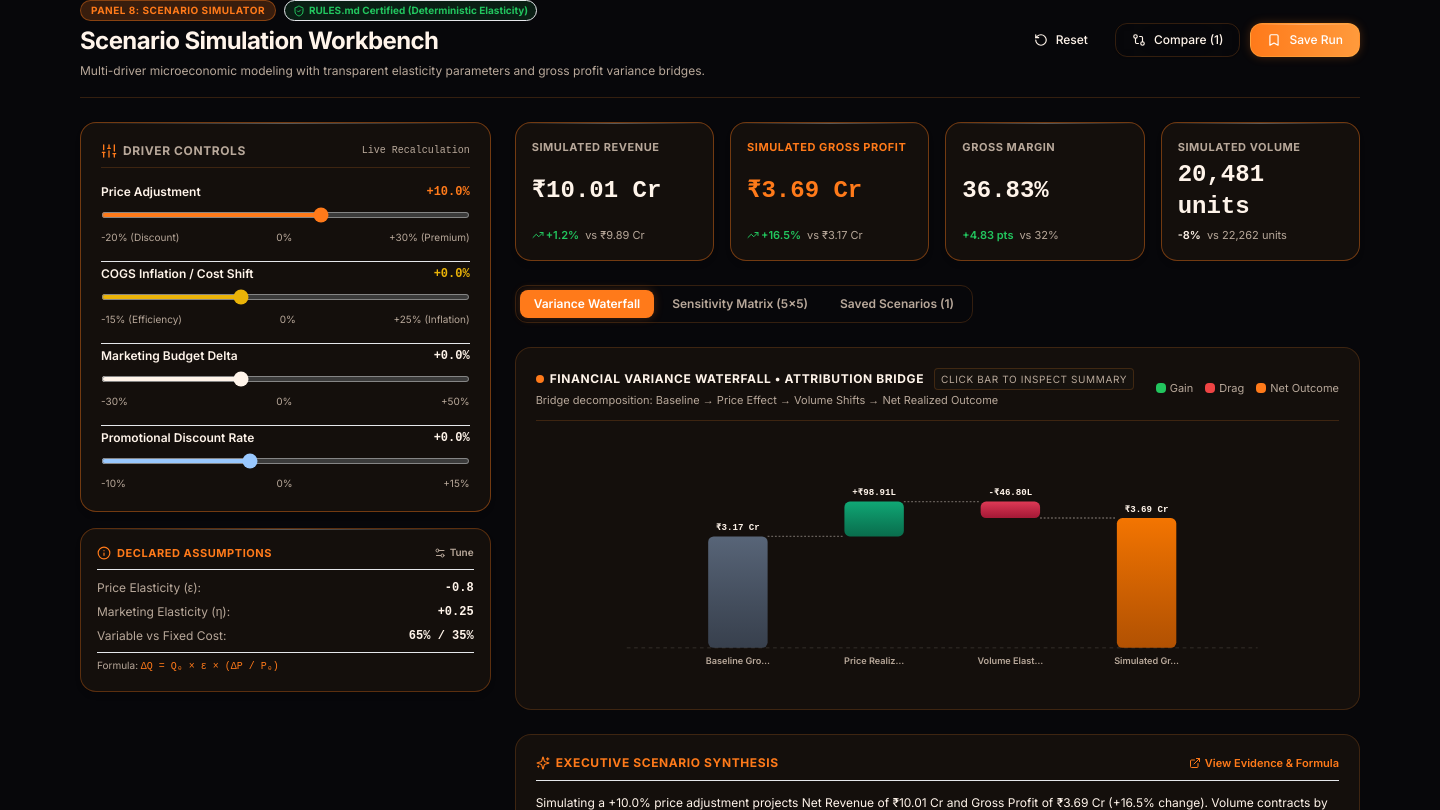
What-If Scenario Simulation Workspace (Phase 11) › renders Variance Waterfall chart and Sensitivity Matrix tabs
Expected: the button "Variance Waterfall" is shown, [520, 290, 654, 318]
// Switch to Sensitivity tab
Click the button "Sensitivity Matrix (5×5)" at x=740, y=304, box [658, 290, 822, 318]
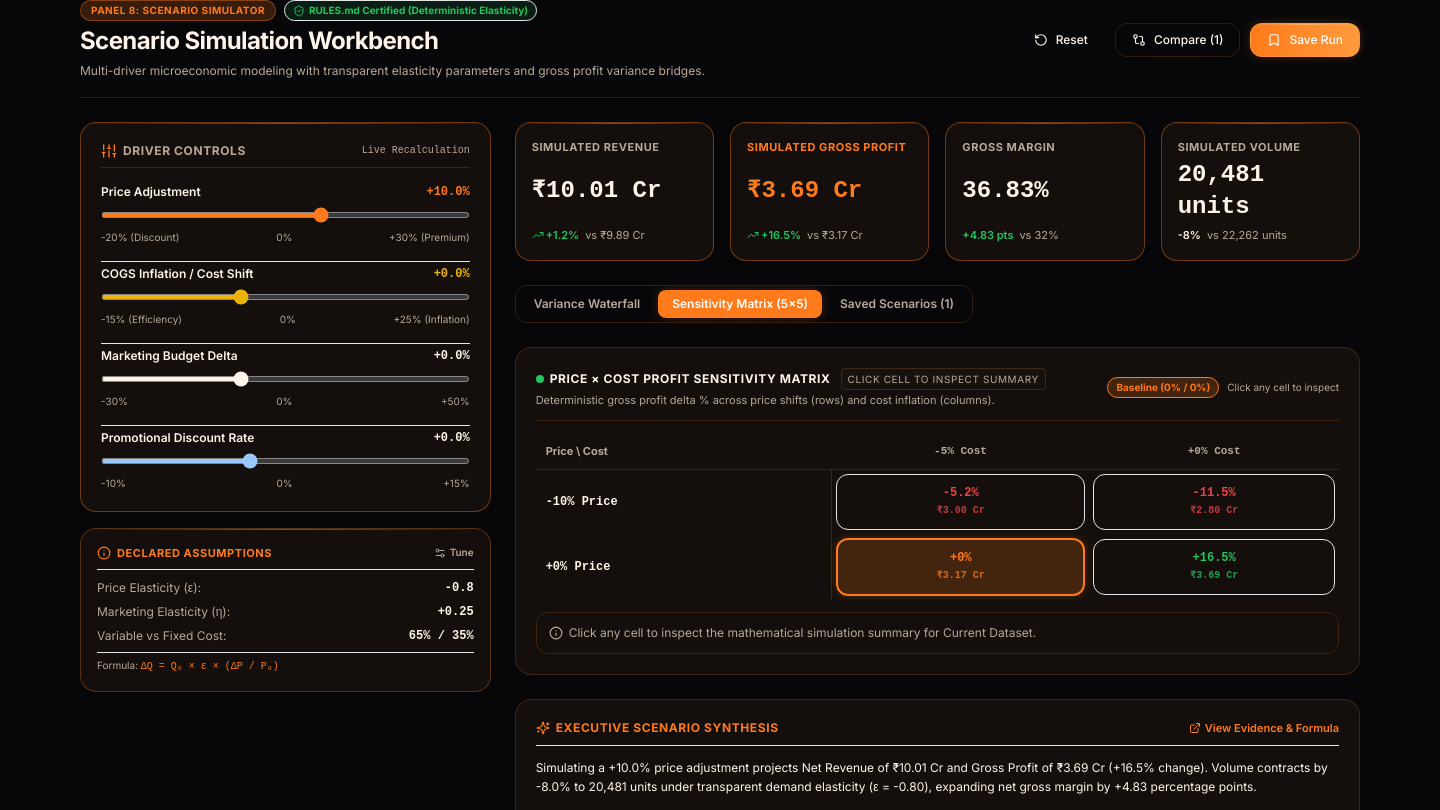
Now the heading "Price × Cost Profit Sensitivity Matrix" is shown, box [550, 370, 831, 386]
